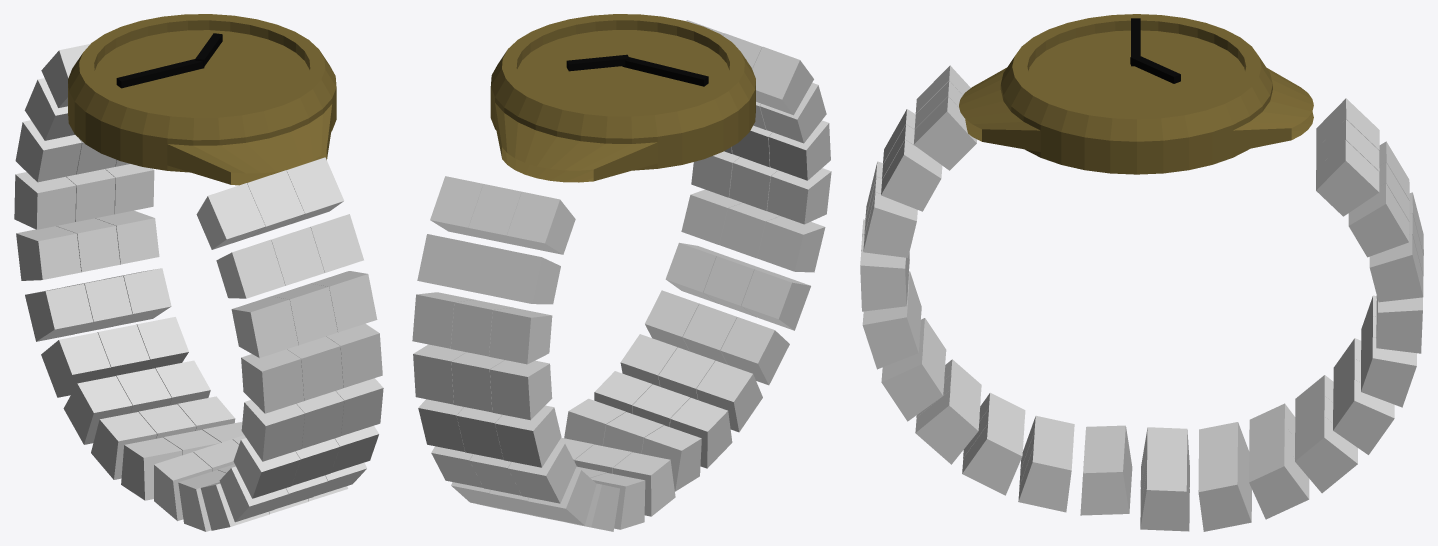
File: clock_clasped.glb
The picture shows the model from 3 angles, left to right: view 1: azimuth 30°, elevation 25°; view 2: azimuth 150°, elevation 25°; view 3: azimuth 270°, elevation 25°; orthographic projection. The views are drawn at different scales.
Parts seen in each view (by area): view 1: Cube.003, Cube.001, Circle.005, Cube.002; view 2: Cube.003, Cube.001, Circle.005, Cube.002; view 3: Cube.001, Circle.005, Cube.003, Cube.002.
Boxes of the visible parts, bbox=[...] form: Cube.003: bbox=[154, 157, 383, 531]; Cube.001: bbox=[14, 44, 243, 500]; Circle.005: bbox=[68, 14, 336, 185]; Cube.002: bbox=[116, 33, 222, 88]; Cube.003: bbox=[564, 20, 831, 491]; Cube.001: bbox=[412, 176, 675, 531]; Circle.005: bbox=[490, 14, 755, 182]; Cube.002: bbox=[566, 54, 708, 86]; Cube.001: bbox=[1140, 98, 1423, 531]; Circle.005: bbox=[959, 14, 1313, 174]; Cube.003: bbox=[860, 65, 1132, 515]; Cube.002: bbox=[1130, 18, 1180, 83].
Size of the model in its own units: 2 by 3.6 by 4.14.
